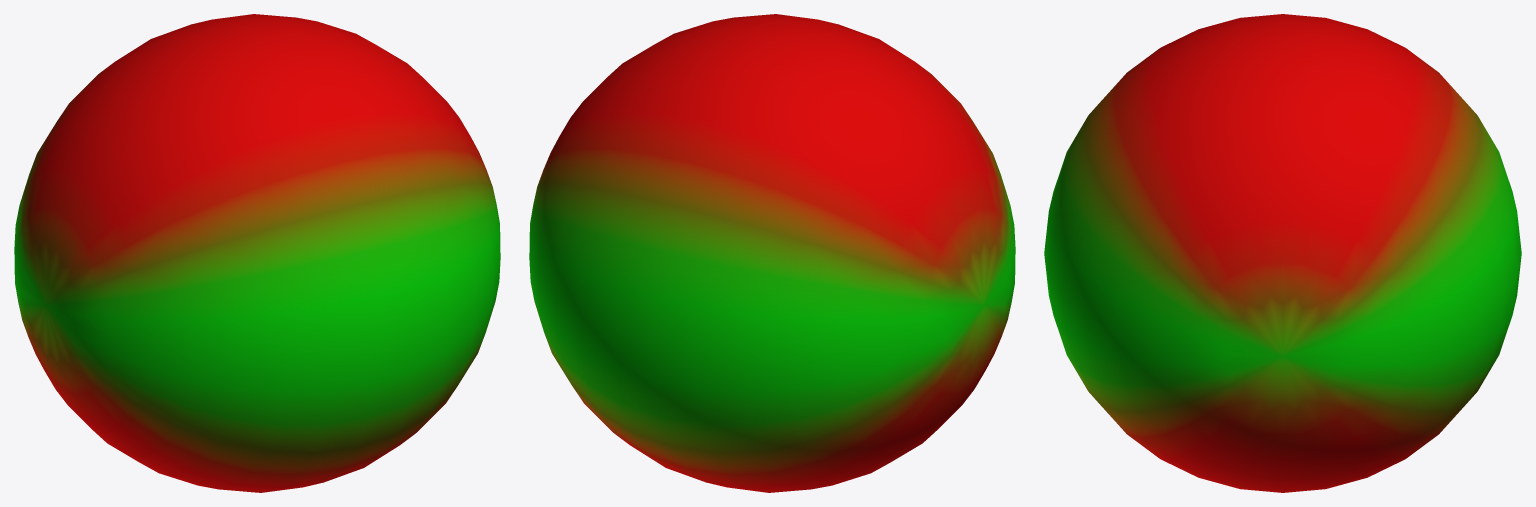
The model's file is SM_WarpBall_01.FBX.
3 views of the same model, side by side, from view 1: azimuth 30°, elevation 25°; view 2: azimuth 150°, elevation 25°; view 3: azimuth 270°, elevation 25° (orthographic).
Visible parts, largest first — view 1: SM_WarpBall_01; view 2: SM_WarpBall_01; view 3: SM_WarpBall_01.
Boxes of the visible parts, x1,y1,x2,y2 form: SM_WarpBall_01: (14,14,500,492); SM_WarpBall_01: (529,14,1015,492); SM_WarpBall_01: (1044,14,1521,492).
Size of the model in its own units: 58.46 by 57.2 by 57.2.
